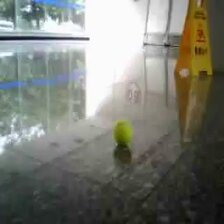tennis: (113, 120, 132, 145)
